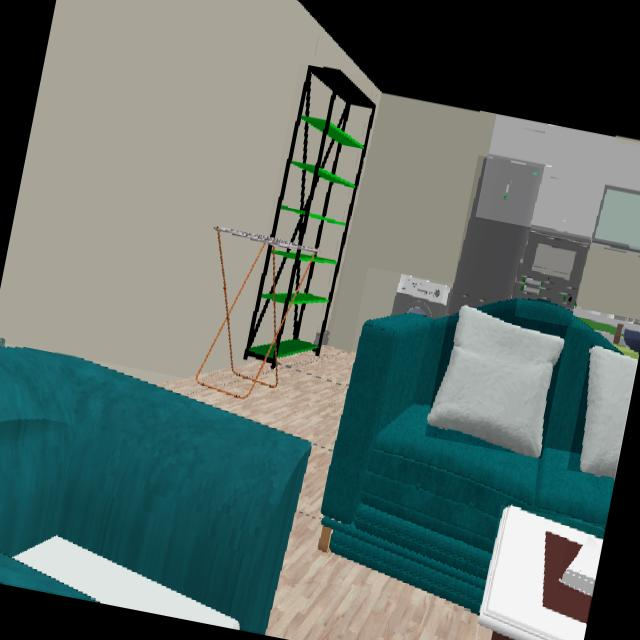book: (561, 536, 603, 596)
cabinet: (489, 116, 640, 239)
countertop: (574, 309, 640, 335)
fridge: (450, 159, 542, 315)
microwave: (515, 233, 589, 309)
pillow: (428, 308, 564, 458), (580, 348, 638, 479)
shelf: (243, 67, 376, 364)
sofa: (322, 300, 614, 612), (0, 349, 309, 632)
table: (479, 510, 601, 640)
